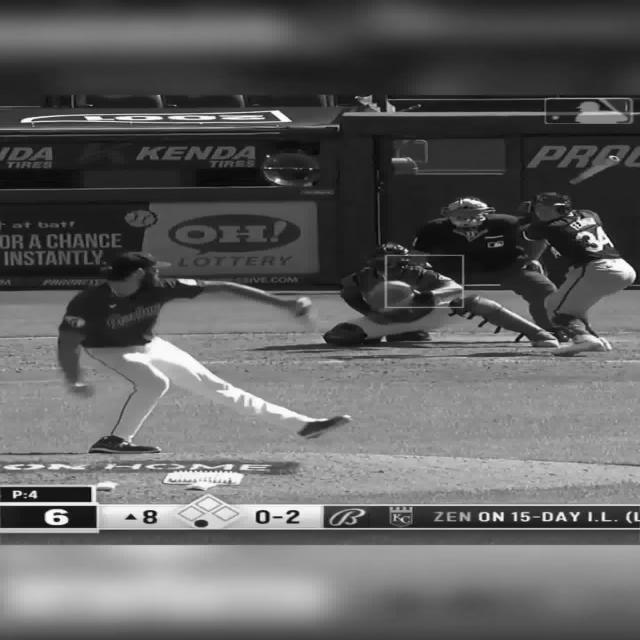baseball_glove: (374, 284, 414, 308), (294, 297, 318, 323)
bat: (574, 156, 620, 188)
shoe: (296, 415, 351, 439), (88, 436, 161, 454), (551, 335, 608, 356), (384, 329, 431, 342), (529, 331, 559, 347)
